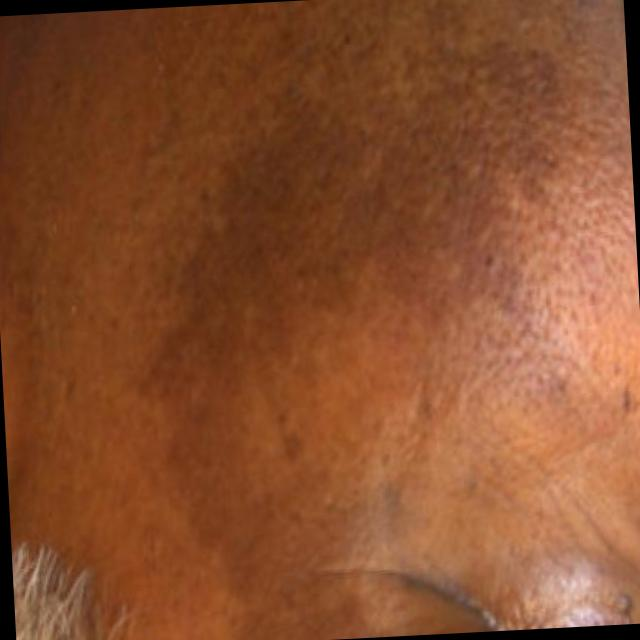melasma: (41, 0, 624, 594)
